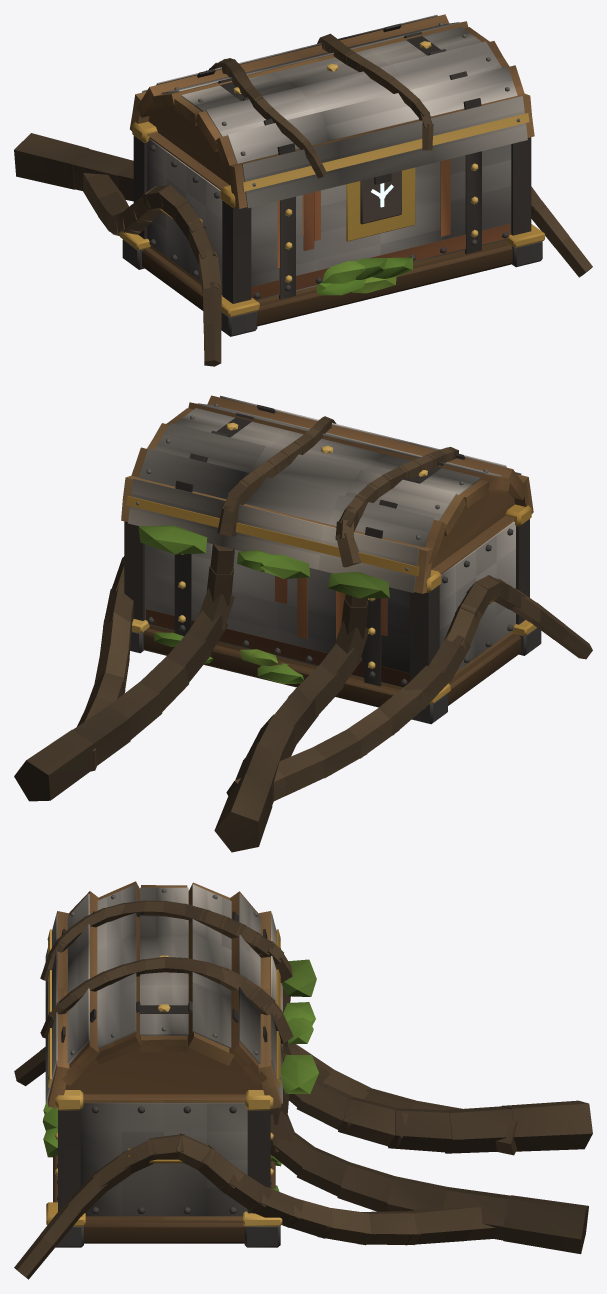
The model's file is coffer.glb.
3 renders of one model, top to bottom at view 1: azimuth 30°, elevation 25°; view 2: azimuth 150°, elevation 25°; view 3: azimuth 270°, elevation 25°, orthographic. The views are drawn at different scales.
Visible parts, largest first — view 1: Body, L2Lid, L2, Lid, L3, L3Lid; view 2: Body, L2Lid, L2, Lid, L3Lid, L3; view 3: Body, Lid, L2Lid, L2, L3, L3Lid.
Part boxes in pixels (x1=…): Body: x1=14, y1=133, x2=592, y2=366; L2Lid: x1=142, y1=15, x2=527, y2=208; L2: x1=122, y1=138, x2=542, y2=336; Lid: x1=130, y1=14, x2=534, y2=208; L3: x1=120, y1=121, x2=544, y2=317; L3Lid: x1=233, y1=41, x2=529, y2=191; Body: x1=14, y1=519, x2=592, y2=852; L2Lid: x1=128, y1=395, x2=521, y2=592; L2: x1=130, y1=522, x2=541, y2=724; Lid: x1=121, y1=395, x2=533, y2=593; L3Lid: x1=126, y1=422, x2=427, y2=576; L3: x1=132, y1=504, x2=536, y2=704; Body: x1=14, y1=959, x2=592, y2=1279; Lid: x1=40, y1=881, x2=293, y2=1108; L2Lid: x1=45, y1=884, x2=282, y2=1103; L2: x1=55, y1=1103, x2=280, y2=1247; L3: x1=46, y1=1090, x2=282, y2=1226; L3Lid: x1=48, y1=929, x2=280, y2=1087.
Size of the model in its own units: 1.47 by 0.8617 by 1.77.
